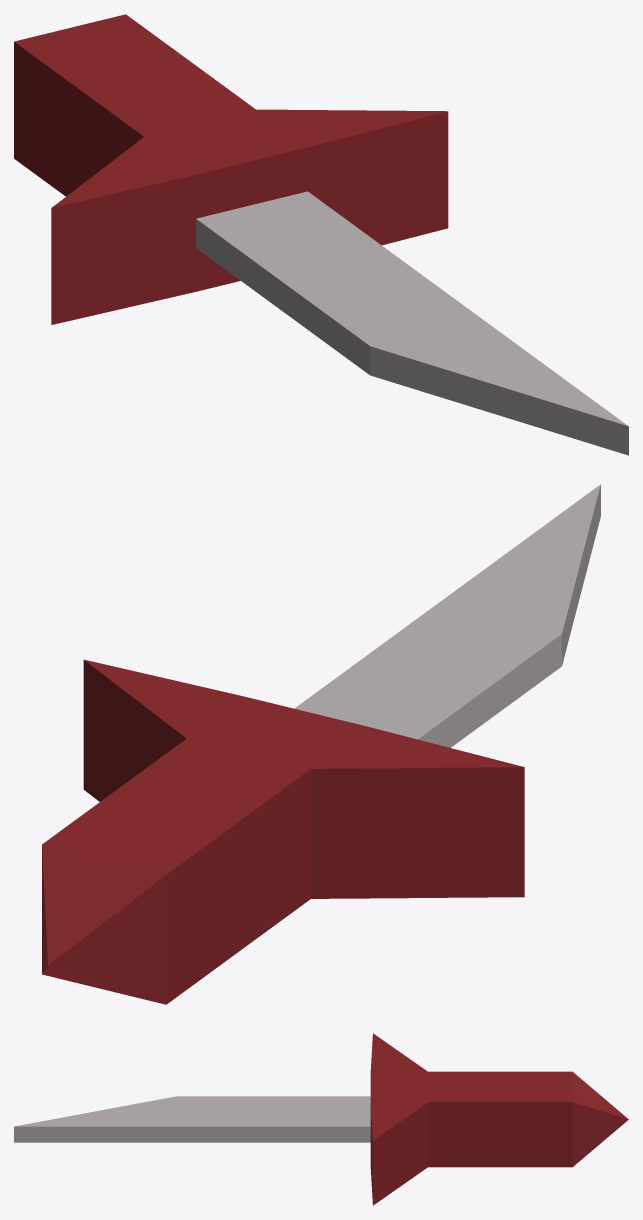
File: dagger.glb
3 renders of one model, top to bottom at view 1: azimuth 30°, elevation 25°; view 2: azimuth 150°, elevation 25°; view 3: azimuth 270°, elevation 25°, orthographic. The views are drawn at different scales.
Parts seen in each view (by area): view 1: dagger; view 2: dagger; view 3: dagger.
Part boxes in pixels (left/top/right/bottom): dagger: left=14, top=14, right=628, bottom=455; dagger: left=42, top=484, right=600, bottom=1004; dagger: left=14, top=1033, right=628, bottom=1205.
Size of the model in its own units: 1.47 by 0.4145 by 3.55.
